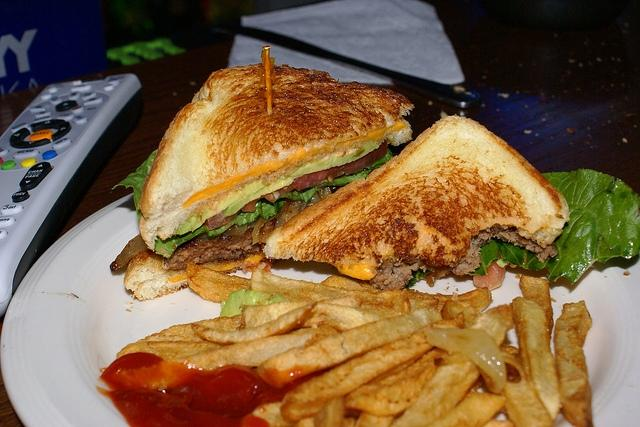lettuce: (470, 168, 640, 286), (112, 148, 158, 222)
